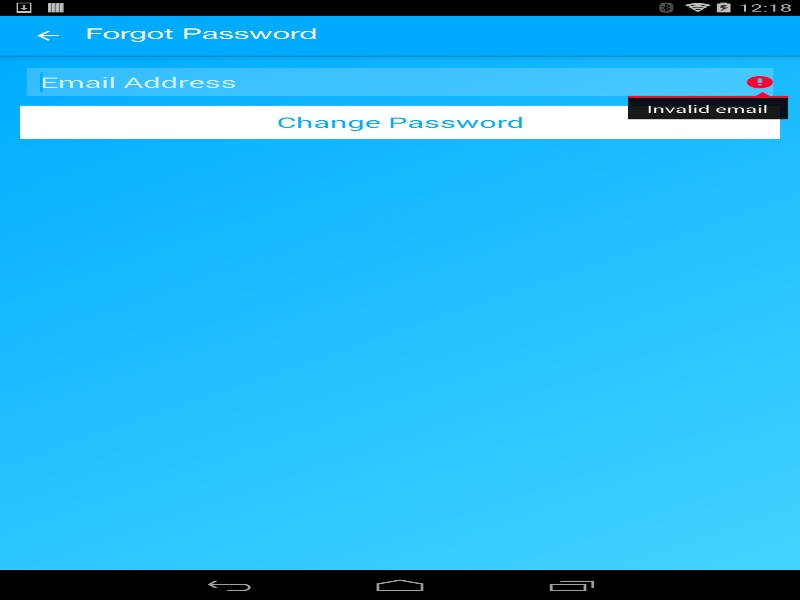Button: (20, 105, 780, 138), (10, 18, 85, 53)
Input: (26, 68, 773, 96)
